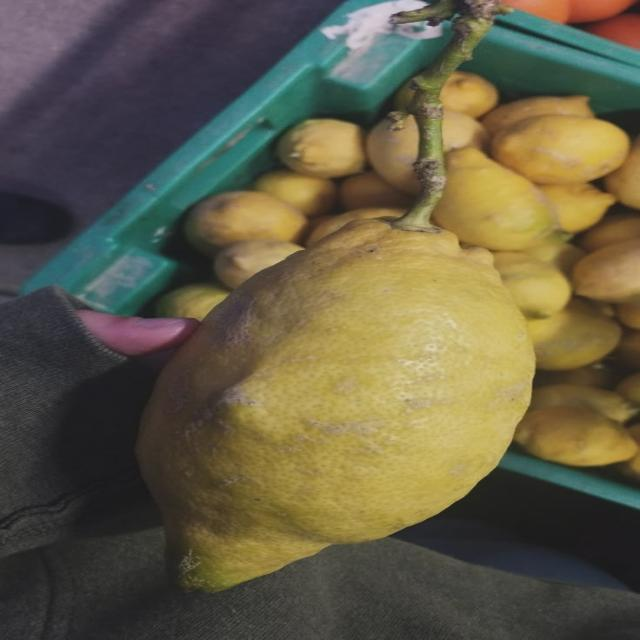lemon: (137, 220, 533, 591), (434, 148, 556, 251), (492, 115, 629, 184), (185, 191, 306, 255), (514, 406, 638, 466), (528, 298, 621, 370), (277, 119, 366, 178), (494, 252, 571, 318), (481, 95, 594, 136), (573, 238, 639, 303), (214, 240, 303, 288), (530, 384, 639, 422), (367, 116, 419, 194), (306, 207, 405, 247), (253, 170, 337, 217), (540, 183, 615, 233), (339, 171, 414, 211), (440, 70, 499, 117), (154, 283, 229, 319), (576, 212, 639, 251), (605, 137, 639, 208), (534, 362, 622, 388), (525, 242, 585, 277), (615, 424, 639, 481), (614, 329, 639, 371), (615, 372, 639, 410), (615, 302, 639, 329)
